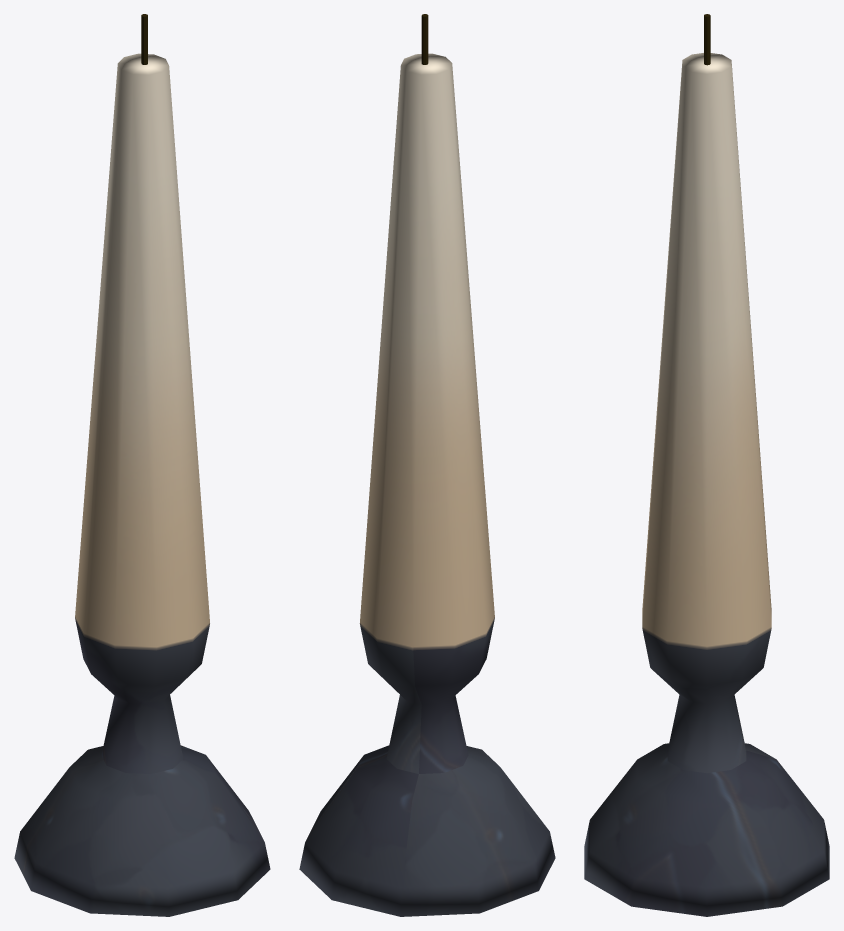
Rendered from Candle1.fbx.
3 views of the same model, side by side, from view 1: azimuth 30°, elevation 25°; view 2: azimuth 150°, elevation 25°; view 3: azimuth 270°, elevation 25° (orthographic).
Parts seen in each view (by area): view 1: Candle1; view 2: Candle1; view 3: Candle1.
Boxes of the visible parts, x1,y1,x2,y2 form: Candle1: (14, 14, 270, 916); Candle1: (299, 14, 555, 916); Candle1: (584, 14, 829, 916).
Bounding box in the file's own units: 0.1436 × 0.5217 × 0.1366.
